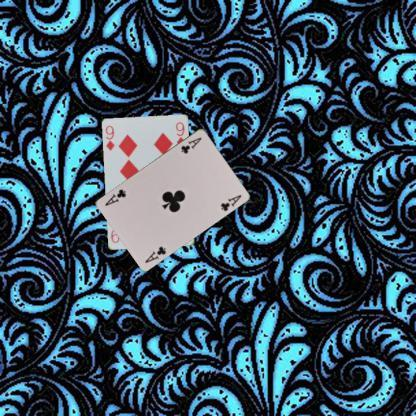9d: (104, 123, 116, 152)
Ac: (142, 243, 168, 264), (178, 134, 203, 154)
